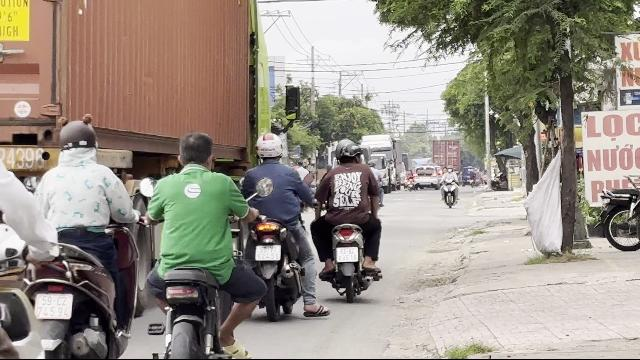helmet: (56, 119, 100, 161), (254, 132, 284, 162), (338, 142, 364, 168)
licenseplate: (34, 293, 74, 319), (256, 245, 280, 260), (336, 246, 358, 262)
motorcyclist: (136, 131, 270, 358), (26, 116, 142, 356), (240, 130, 318, 322), (310, 136, 386, 301)
nohelmet: (175, 130, 215, 172)
